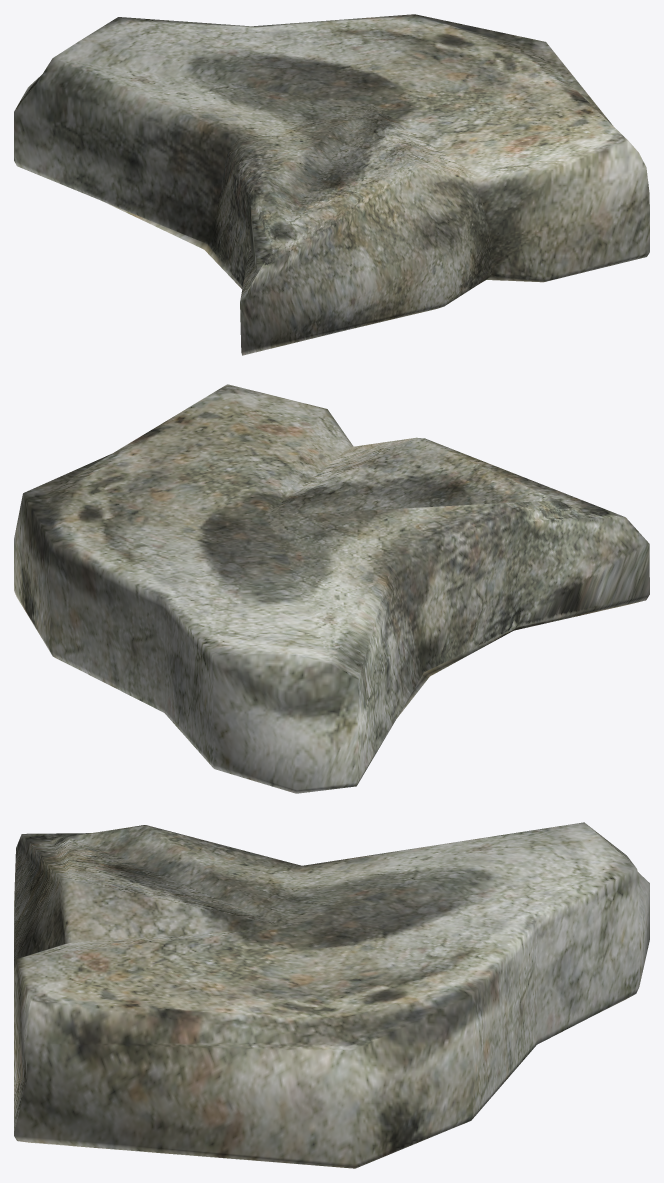
The model's file is Debris_Small_Concrete_02.fbx.
3 views of the same model, one above another, from view 1: azimuth 30°, elevation 25°; view 2: azimuth 150°, elevation 25°; view 3: azimuth 270°, elevation 25° (orthographic). The views are drawn at different scales.
Visible parts, largest first — view 1: Debris_Small_Concrete_02; view 2: Debris_Small_Concrete_02; view 3: Debris_Small_Concrete_02.
Boxes of the visible parts, <box> form: Debris_Small_Concrete_02: <box>14,14,649,355</box>; Debris_Small_Concrete_02: <box>14,384,649,793</box>; Debris_Small_Concrete_02: <box>14,822,649,1168</box>.
Size of the model in its own units: 0.2398 by 0.065 by 0.2488.
